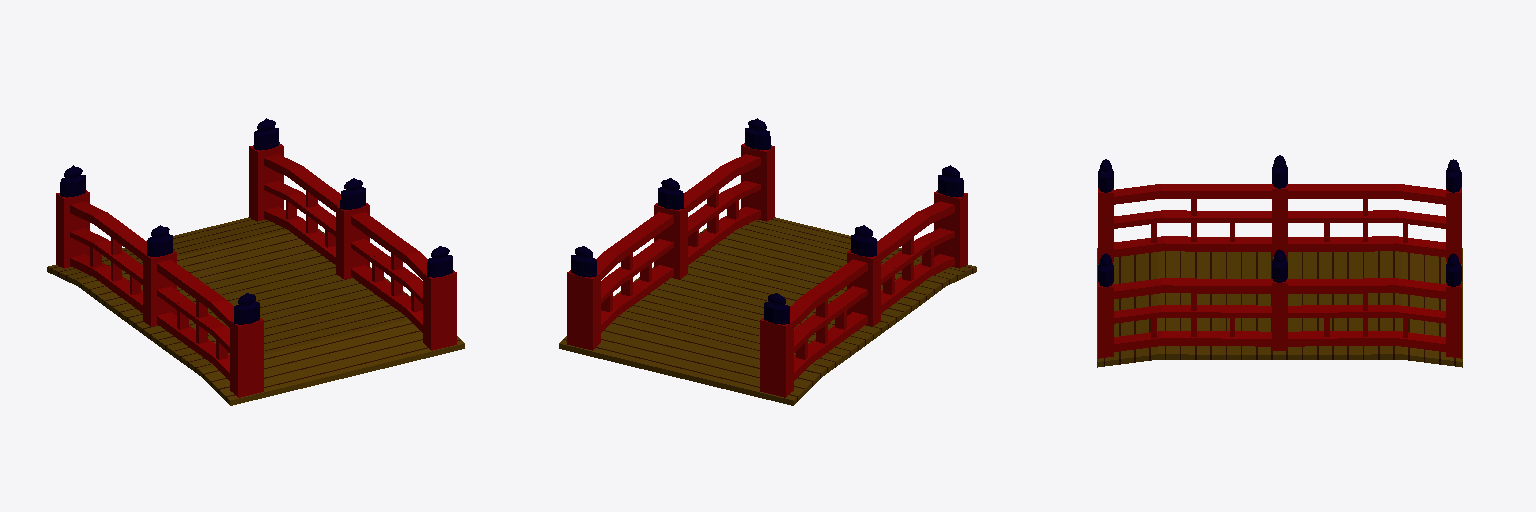
3 renders of one model, left to right at view 1: azimuth 30°, elevation 25°; view 2: azimuth 150°, elevation 25°; view 3: azimuth 270°, elevation 25°, orthographic.
Parts seen in each view (by area): view 1: Puente; view 2: Puente; view 3: Puente.
Part boxes in pixels (x1,y1,x2,y2): Puente: (47,118,464,405); Puente: (559,118,976,405); Puente: (1097,155,1462,367).
Size of the model in its own units: 37.62 by 16.71 by 50.96.
1 materials, 1 textured.